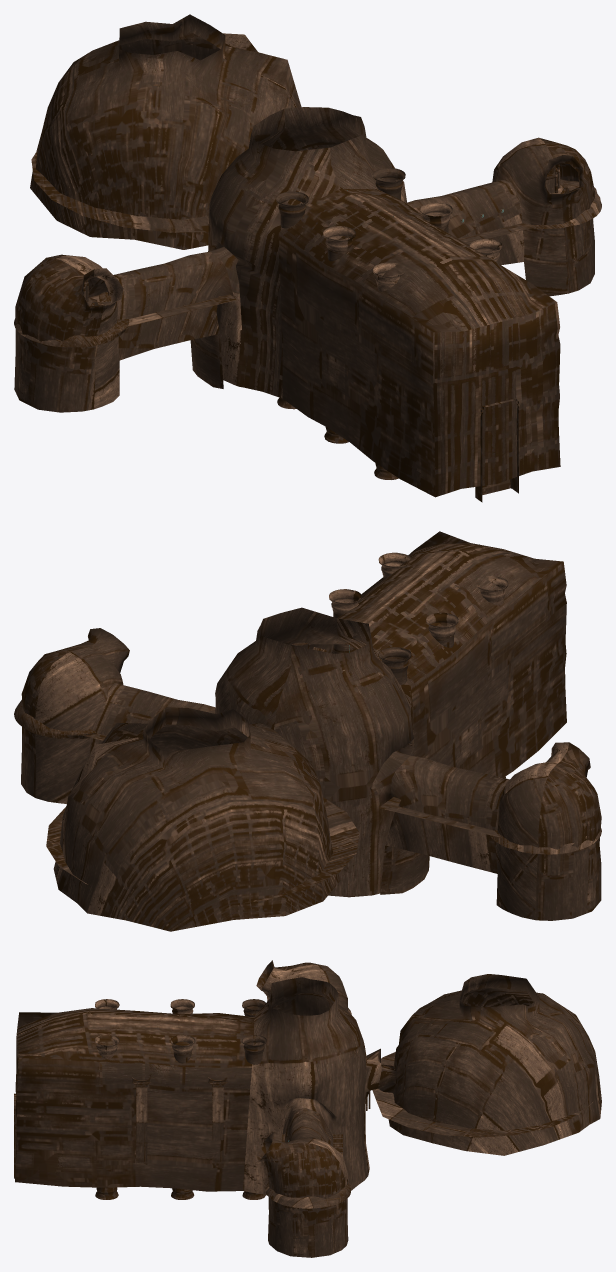
File: Untitled_Loka_Ankh.fbx
3 renders of one model, top to bottom at view 1: azimuth 30°, elevation 25°; view 2: azimuth 150°, elevation 25°; view 3: azimuth 270°, elevation 25°, orthographic. The views are drawn at different scales.
Parts seen in each view (by area): view 1: Cfve_Central, Cave_Round1, Cave_Left2, Cave_Right2, Column_Ankh_Left, Floor_Central_Temple, Column_Ankh_Right, Sand_Left_Low, Bridg, Road_Left_Low, Sand_Right_Low; view 2: Cfve_Central, Cave_Round1, Cave_Left2, Cave_Right2, Floor_Central_Temple, Column_Ankh_Left, Column_Ankh_Right, Sand_Right_Low, Road_Left_Low, Sand_Left_Low; view 3: Cfve_Central, Cave_Round1, Cave_Right2, Floor_Central_Temple, Column_Ankh_Right, Cave_Left2, square_column_Low, Sand_Right_Low, Loka_Ankh_2_2:square_column_Low, Column_Ankh_Left.
Boxes of the visible parts, x1=… form: Cfve_Central: x1=208, y1=107, x2=560, y2=497; Cave_Round1: x1=30, y1=14, x2=301, y2=249; Cave_Left2: x1=14, y1=251, x2=233, y2=412; Cave_Right2: x1=407, y1=137, x2=595, y2=296; Column_Ankh_Left: x1=276, y1=191, x2=405, y2=479; Floor_Central_Temple: x1=31, y1=150, x2=208, y2=232; Column_Ankh_Right: x1=372, y1=168, x2=502, y2=262; Sand_Left_Low: x1=14, y1=297, x2=129, y2=347; Bridg: x1=475, y1=398, x2=518, y2=502; Road_Left_Low: x1=89, y1=294, x2=236, y2=326; Sand_Right_Low: x1=532, y1=179, x2=601, y2=228; Cfve_Central: x1=215, y1=531, x2=566, y2=897; Cave_Round1: x1=53, y1=707, x2=339, y2=931; Cave_Left2: x1=380, y1=742, x2=601, y2=920; Cave_Right2: x1=21, y1=628, x2=215, y2=803; Floor_Central_Temple: x1=46, y1=797, x2=359, y2=902; Column_Ankh_Left: x1=378, y1=576, x2=508, y2=778; Column_Ankh_Right: x1=291, y1=552, x2=411, y2=653; Sand_Right_Low: x1=14, y1=700, x2=96, y2=739; Road_Left_Low: x1=379, y1=797, x2=501, y2=837; Sand_Left_Low: x1=489, y1=828, x2=601, y2=854; Cfve_Central: x1=15, y1=977, x2=381, y2=1195; Cave_Round1: x1=378, y1=974, x2=601, y2=1155; Cave_Right2: x1=256, y1=1108, x2=348, y2=1257; Floor_Central_Temple: x1=372, y1=1052, x2=593, y2=1137; Column_Ankh_Right: x1=95, y1=1035, x2=266, y2=1199; Cave_Left2: x1=256, y1=960, x2=347, y2=1010; square_column_Low: x1=132, y1=1077, x2=150, y2=1164; Sand_Right_Low: x1=265, y1=1181, x2=350, y2=1208; Loka_Ankh_2_2:square_column_Low: x1=208, y1=1077, x2=227, y2=1167; Column_Ankh_Left: x1=95, y1=999, x2=265, y2=1016.
Bounding box in the file's own units: 11841 × 4837 × 13863.
